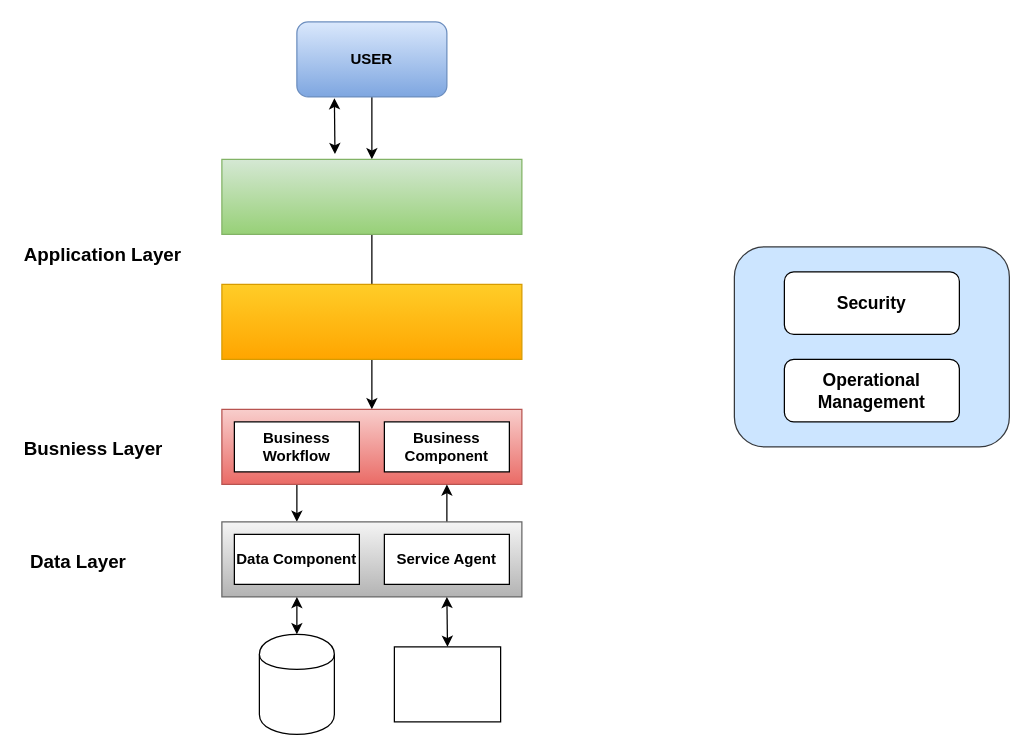
This 1031x756 diagram has some shape labels left out. The shapes that lost their labels are listed below. From the top down, each one's box as (x1, y1, x2, y2) in pixels, then its label:
(221, 158, 522, 234): Web Browser( UI-Component )
(221, 283, 522, 359): Interface(Service Component)
(258, 633, 334, 734): Database
(393, 646, 501, 722): Services
